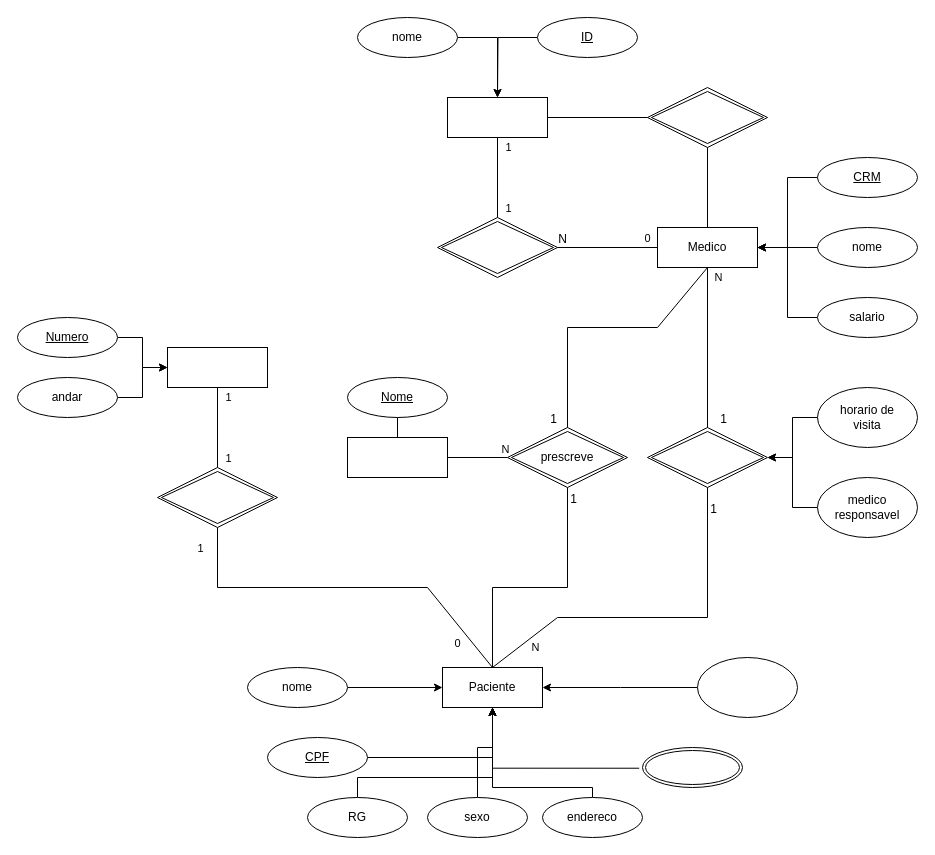
Some shapes in this 935 by 855 pixel diagram are drawn without their labels. The shapes that lost their labels are listed below. From the top down, each one's centre as x and y in pixels, then its label:
(497,117): Especialidade
(707,117): formado em
(497,247): exerce
(217,367): Leito
(397,457): Medicamento
(707,457): trata
(217,497): ocupa
(747,687): data de nascimento
(692,767): telefones
